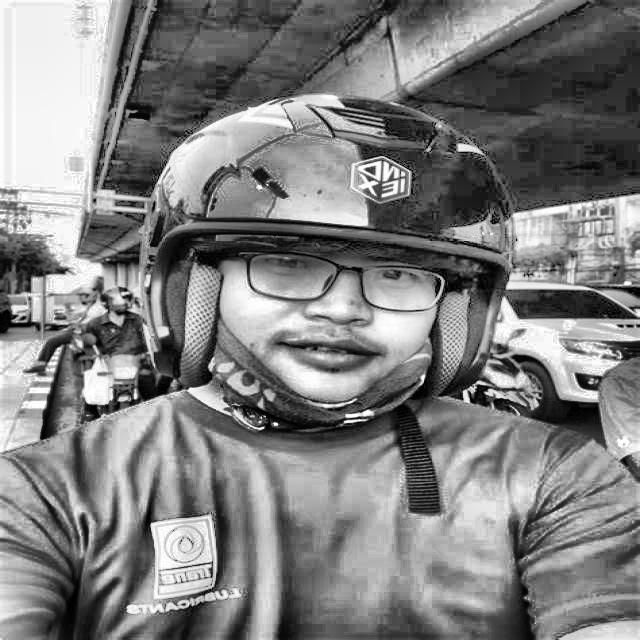Helmet: (124, 85, 528, 447)
